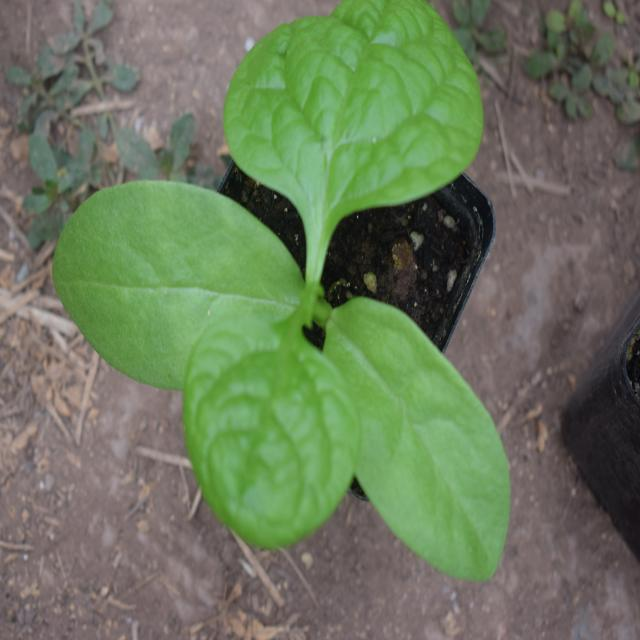Ceylon spinach: (55, 19, 519, 581)
